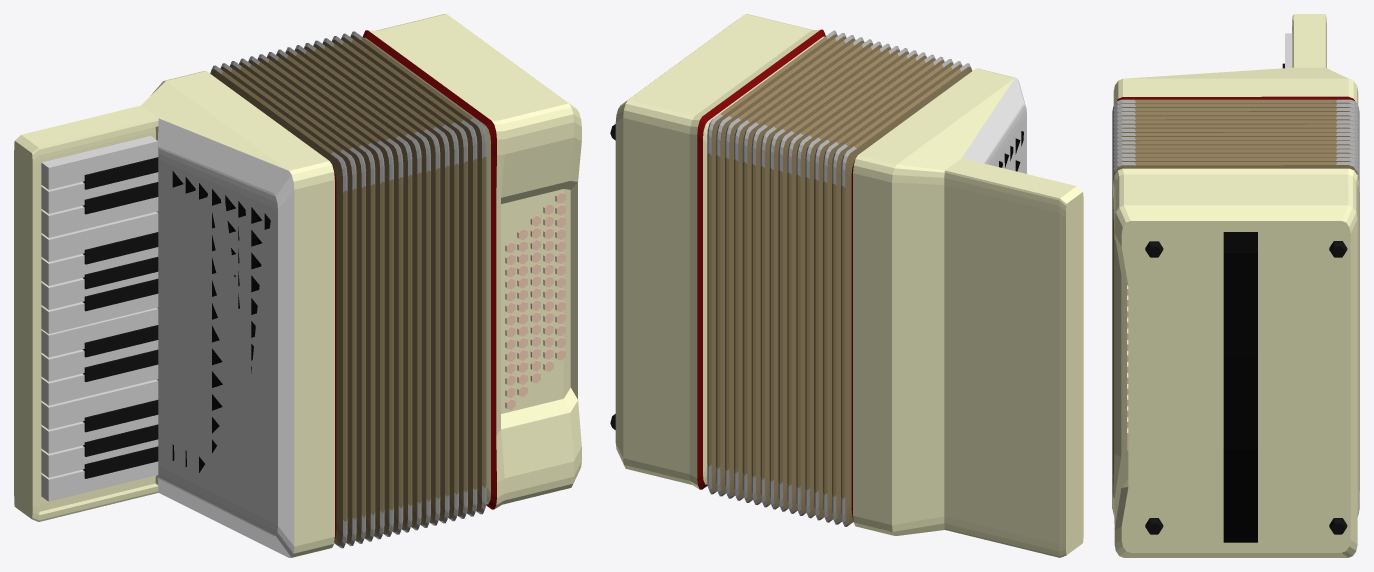
The model's file is Accordion05.fbx.
3 views of the same model, side by side, from view 1: azimuth 30°, elevation 25°; view 2: azimuth 150°, elevation 25°; view 3: azimuth 270°, elevation 25° (orthographic). The views are drawn at different scales.
Visible parts, largest first — view 1: Cube.008; view 2: Cube.008; view 3: Cube.008.
Boxes of the visible parts, x1,y1,x2,y2 form: Cube.008: (14, 14, 581, 557); Cube.008: (610, 14, 1083, 557); Cube.008: (1112, 14, 1359, 557).
Bounding box in the file's own units: 57.18 × 43.51 × 27.21.
